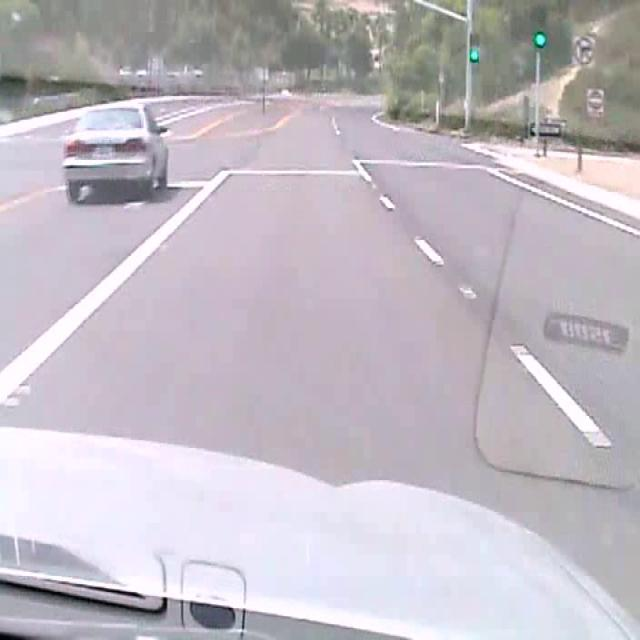noRightTurn: (571, 32, 596, 67)
